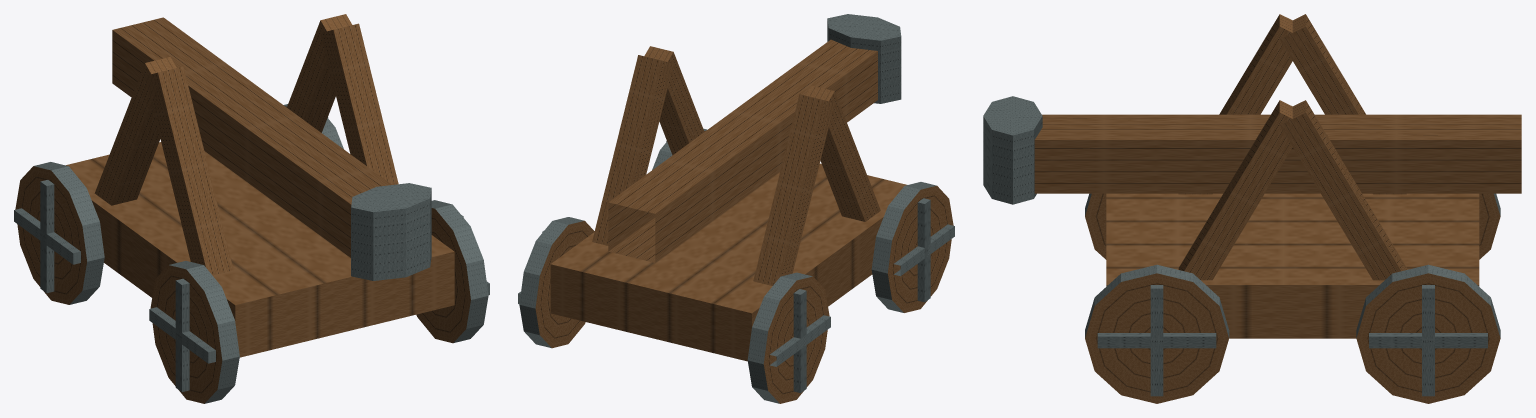
The model's file is unit-RAM-lod0.glb.
3 renders of one model, left to right at view 1: azimuth 30°, elevation 25°; view 2: azimuth 150°, elevation 25°; view 3: azimuth 270°, elevation 25°, orthographic. The views are drawn at different scales.
Bounding box in the file's own units: 0.385 × 0.3584 × 0.635.
1 material, 1 textured.
